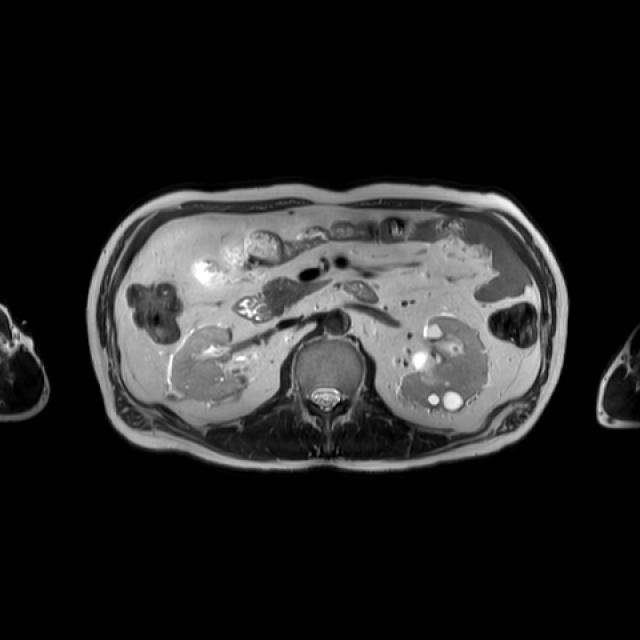sag: (166, 325, 247, 406)
sol: (402, 314, 489, 411)
